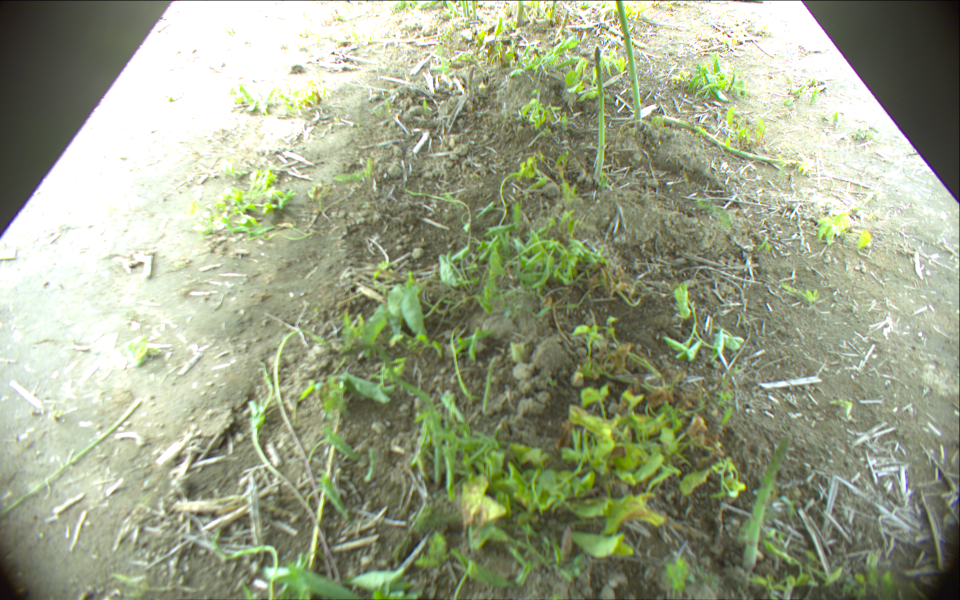aspa: (1, 397, 143, 523), (660, 113, 803, 167), (741, 436, 791, 571), (612, 1, 642, 130), (590, 47, 606, 182), (555, 10, 571, 37), (516, 1, 526, 23), (472, 1, 478, 19), (462, 1, 468, 16), (465, 1, 470, 16)
